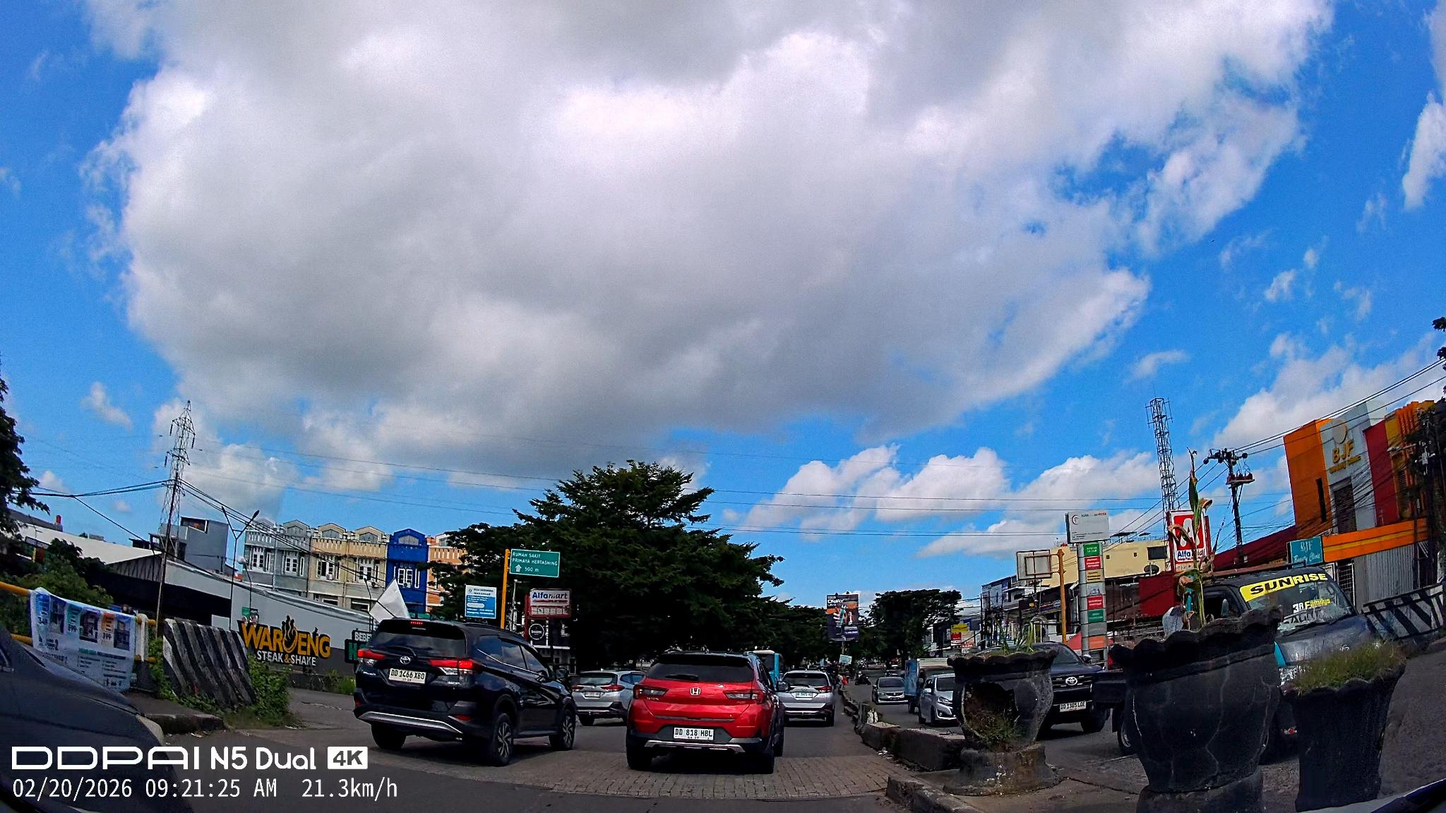rambu_teks: (509, 548, 560, 578)
